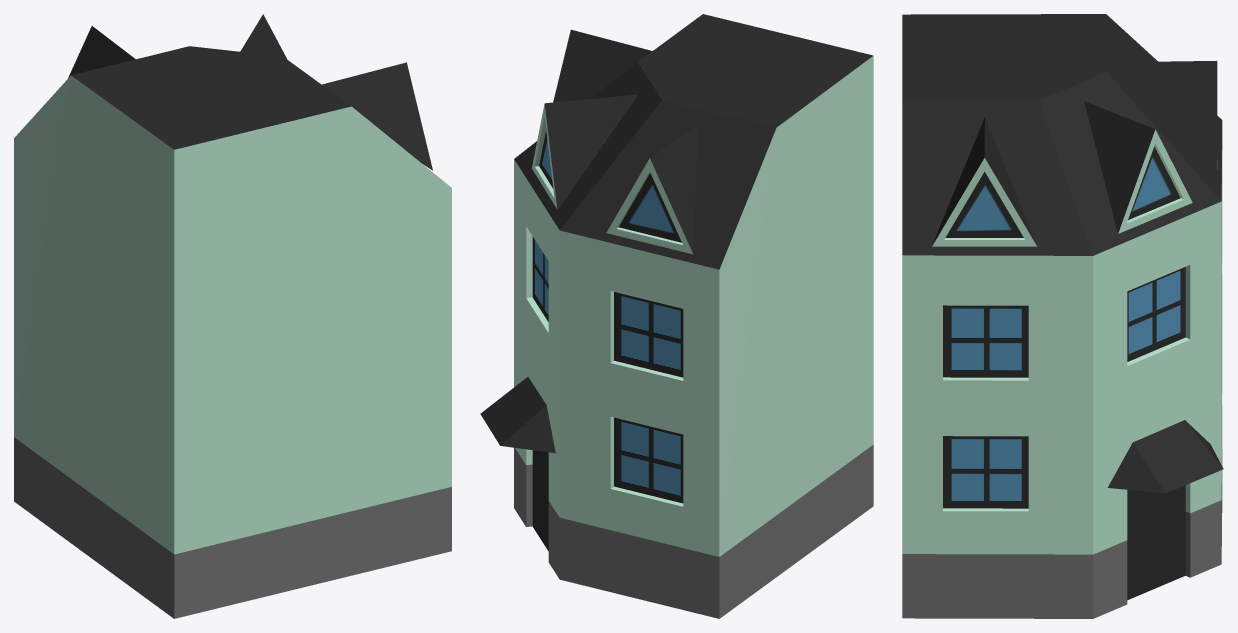
Rendered from CornerTriangleMint.obj.
3 views of the same model, side by side, from view 1: azimuth 30°, elevation 25°; view 2: azimuth 150°, elevation 25°; view 3: azimuth 270°, elevation 25° (orthographic). The views are drawn at different scales.
Parts seen in each view (by area): view 1: naroznikTrojkatMieta; view 2: naroznikTrojkatMieta; view 3: naroznikTrojkatMieta.
Boxes of the visible parts, x1,y1,x2,y2 form: naroznikTrojkatMieta: [14, 14, 451, 618]; naroznikTrojkatMieta: [480, 14, 873, 618]; naroznikTrojkatMieta: [902, 14, 1223, 618].
Size of the model in its own units: 5.03 by 8.07 by 5.02.
